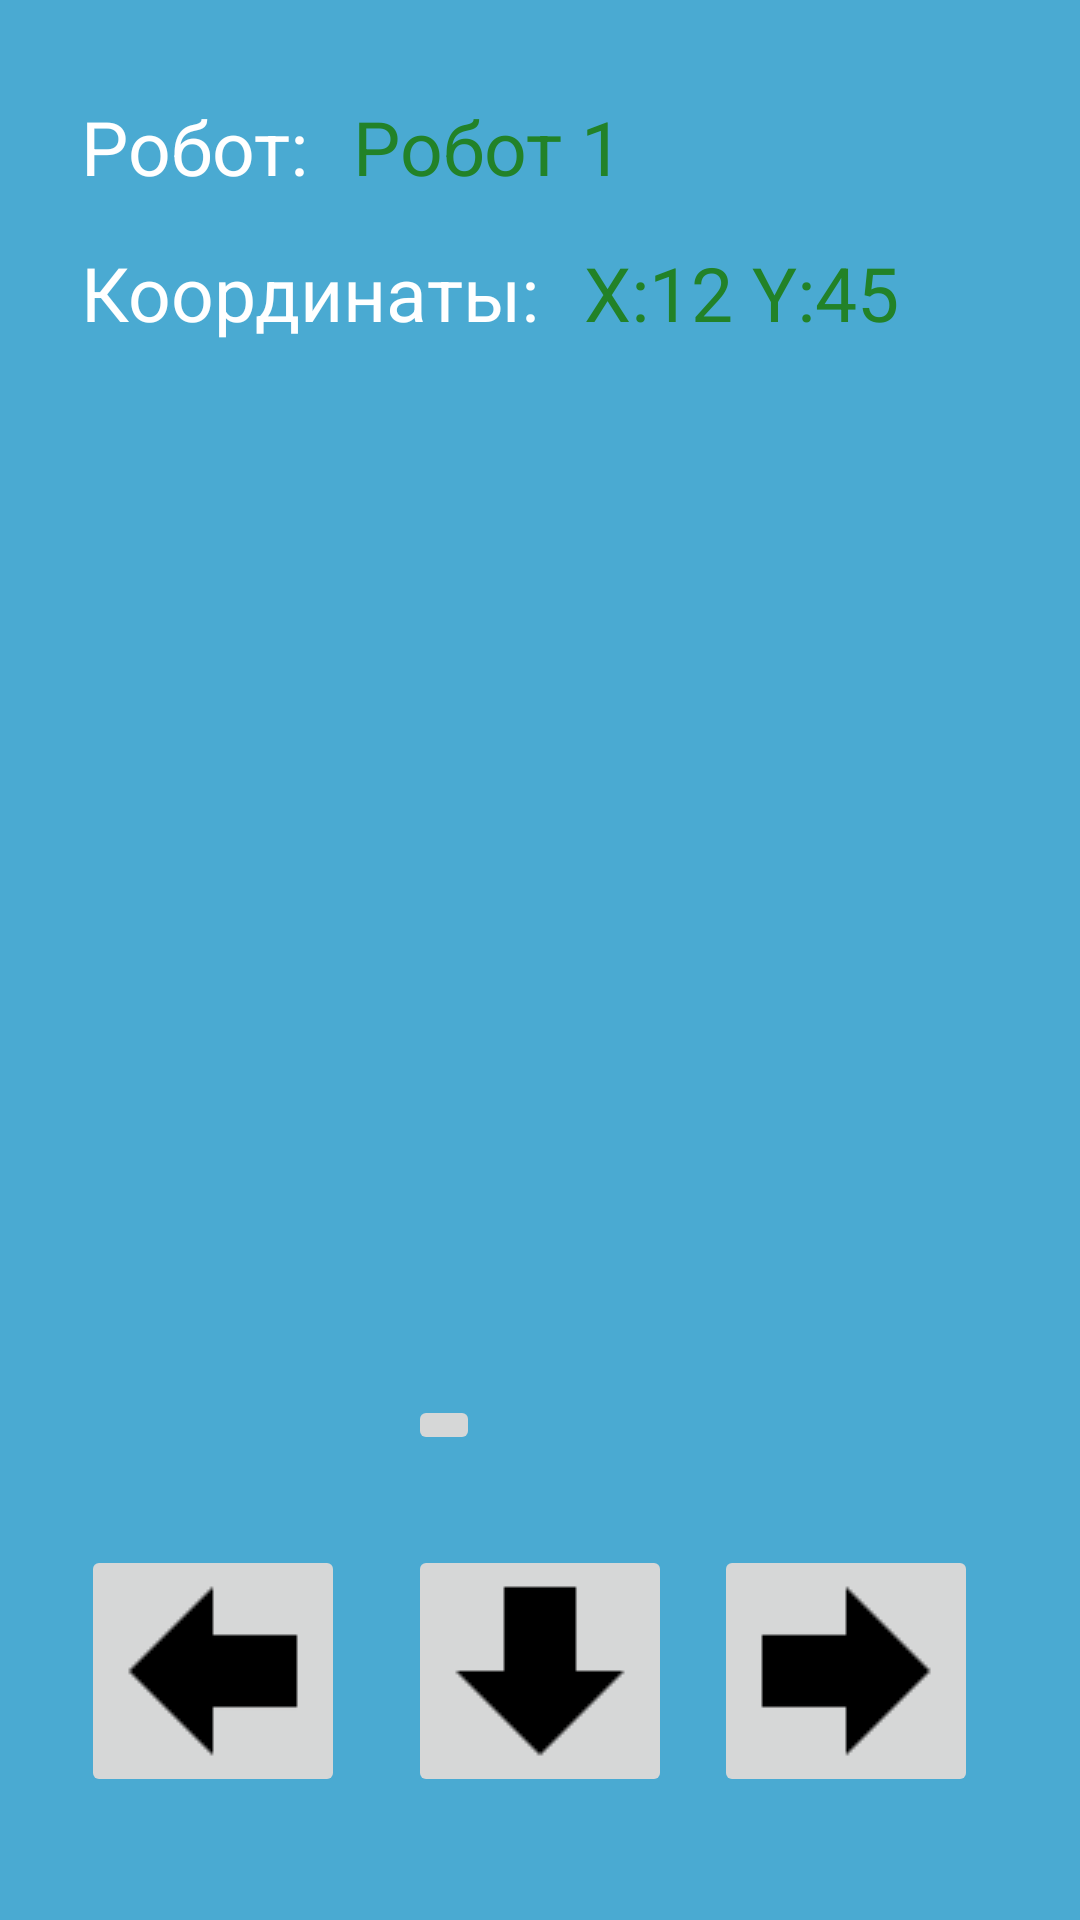

Point at icon controls on the screen. Image size 1080 x 1920, points as [x,y].
down arrow control: [540,1671]
left arrow control: [213,1671]
right arrow control: [846,1671]
